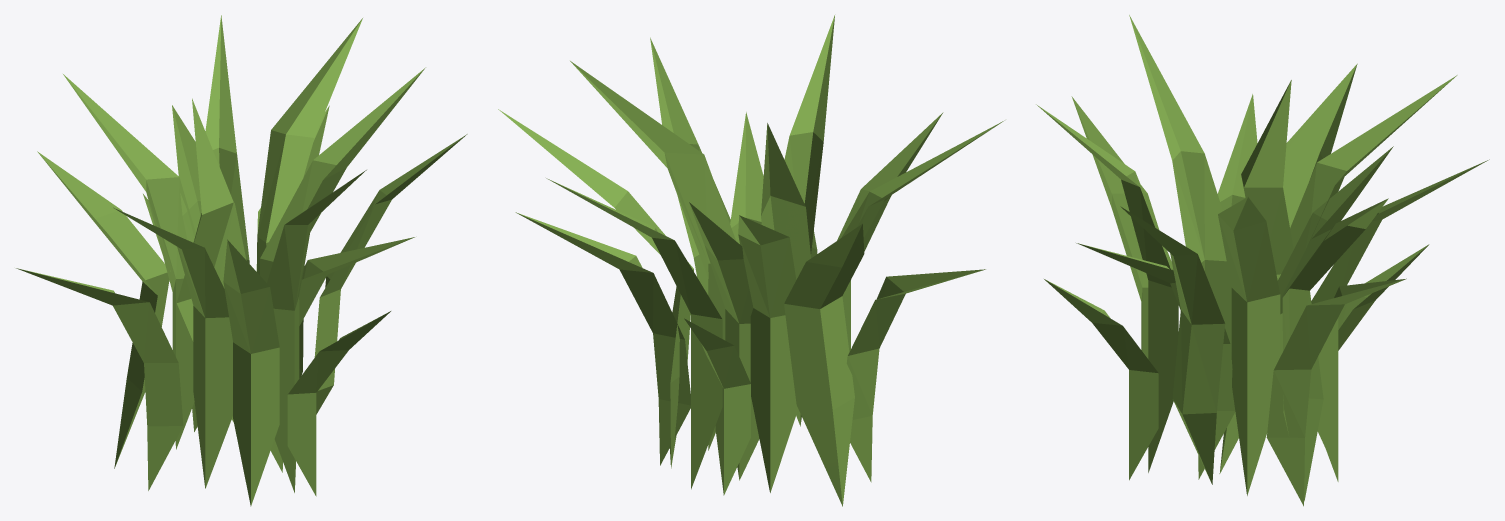
File: grass.glb
3 views of the same model, side by side, from view 1: azimuth 30°, elevation 25°; view 2: azimuth 150°, elevation 25°; view 3: azimuth 270°, elevation 25° (orthographic). The views are drawn at different scales.
Parts seen in each view (by area): view 1: grass; view 2: grass; view 3: grass.
Boxes of the visible parts, x1=… form: grass: x1=16, y1=15, x2=467, y2=506; grass: x1=498, y1=15, x2=1004, y2=506; grass: x1=1036, y1=15, x2=1489, y2=506.
Size of the model in its own units: 1.1 by 0.9088 by 0.9862.
